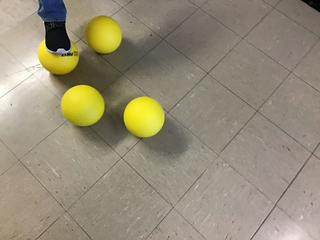power_cell: (59, 82, 108, 129), (122, 95, 167, 141), (38, 35, 83, 78), (84, 13, 124, 55)
